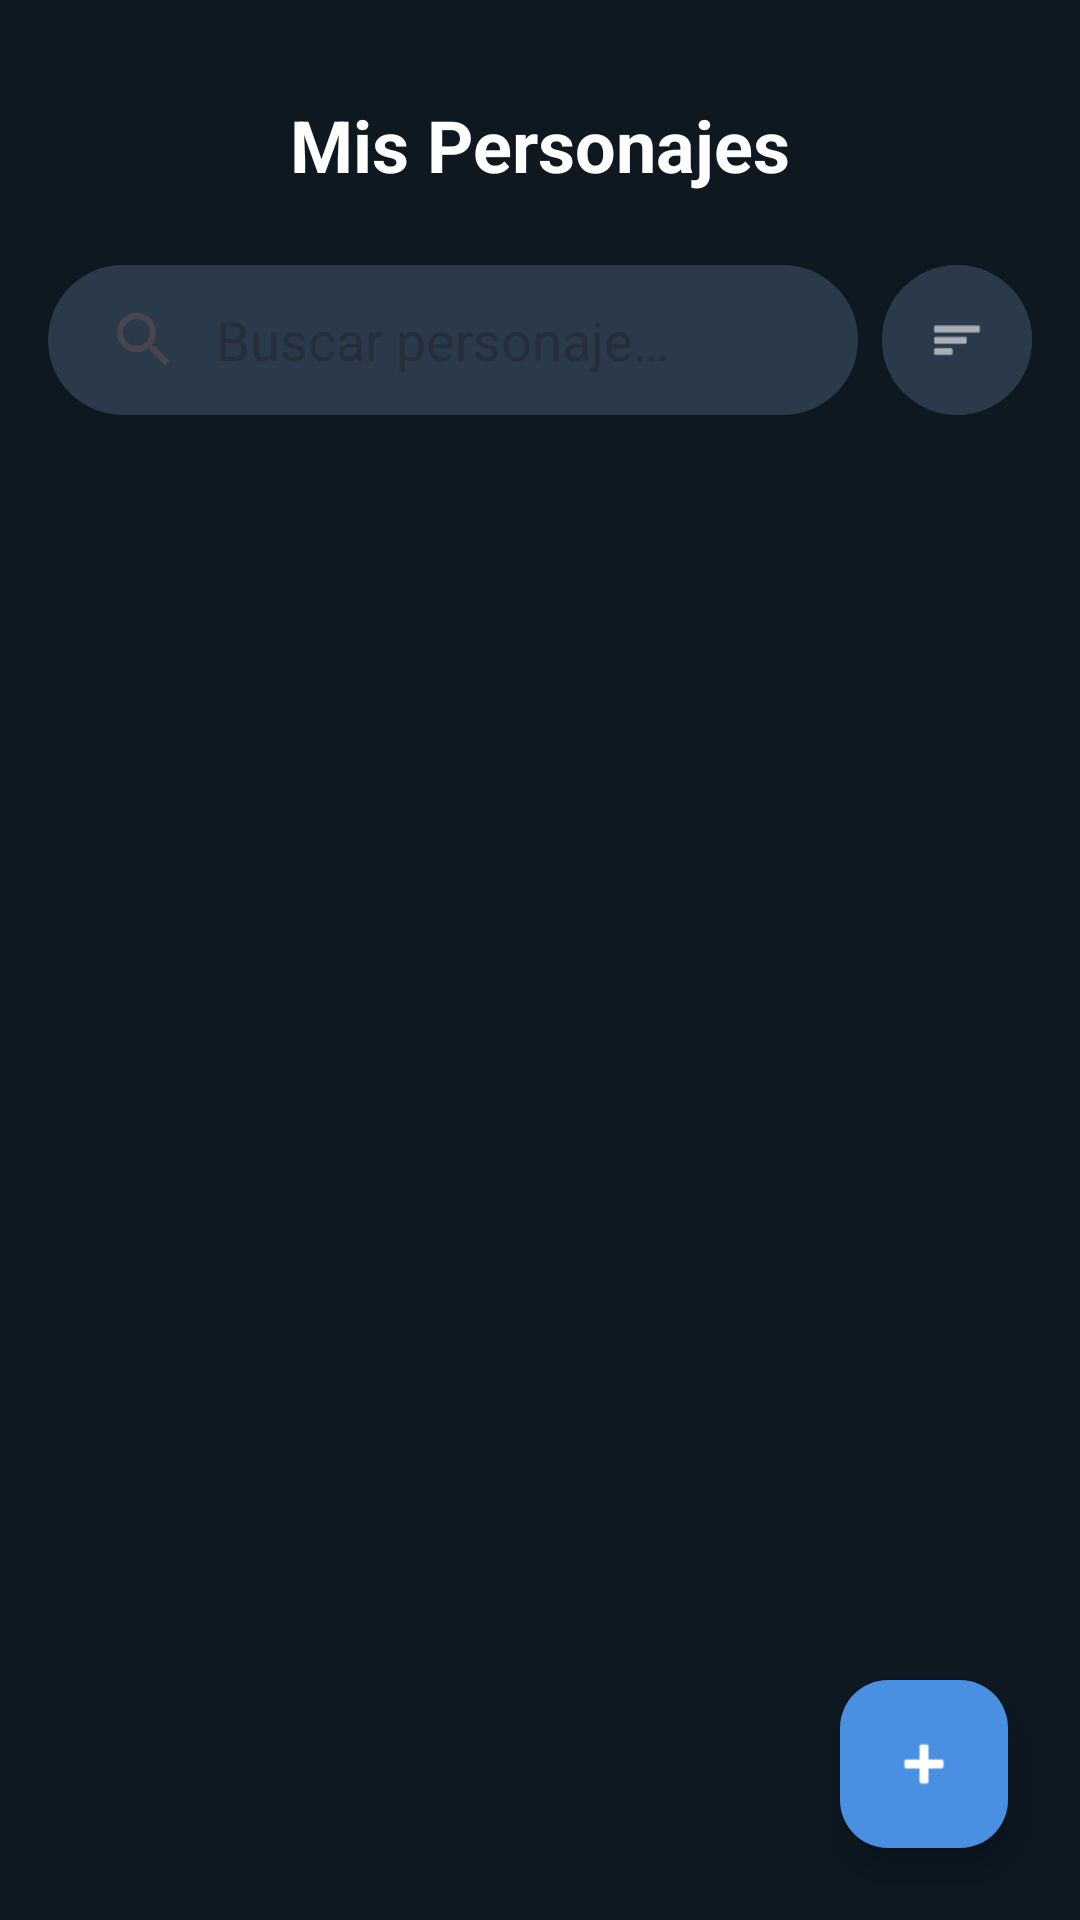

Icon click points for this 1080x1920 phone screenshot, format point (x, y):
Agregar nuevo personaje: point (924, 1764)
sort by size: point (957, 340)
